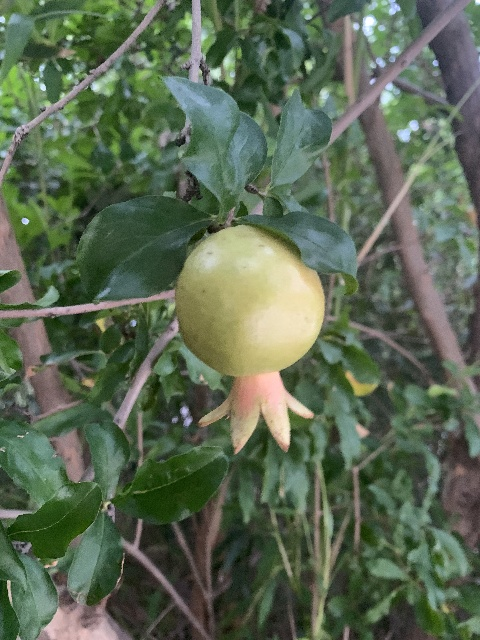mid-growth: (174, 226, 324, 453)
